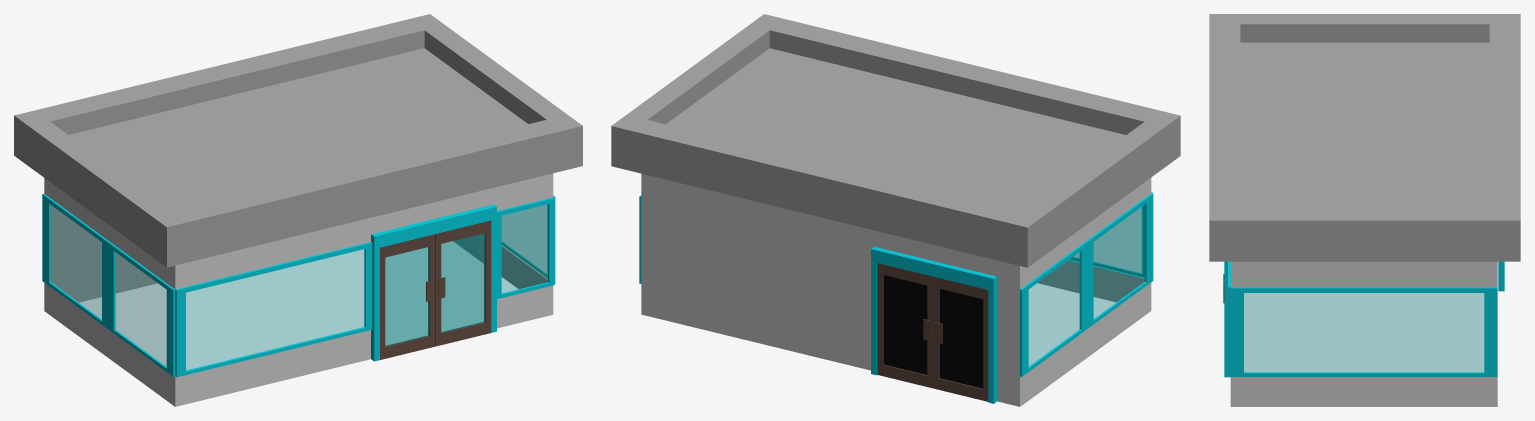
The model's file is Building_Generic_Mod_02.fbx.
The picture shows the model from 3 angles, left to right: view 1: azimuth 30°, elevation 25°; view 2: azimuth 150°, elevation 25°; view 3: azimuth 270°, elevation 25°; orthographic projection.
Parts seen in each view (by area): view 1: Roof5, Door, Door1; view 2: Roof5; view 3: Roof5.
Boxes of the visible parts, x1,y1,x2,y2 form: Roof5: (14,14,582,406); Door: (435,220,491,346); Door1: (380,234,435,359); Roof5: (611,14,1180,406); Roof5: (1209,14,1520,406).
Size of the model in its own units: 5.5 by 2.43 by 3.5.
